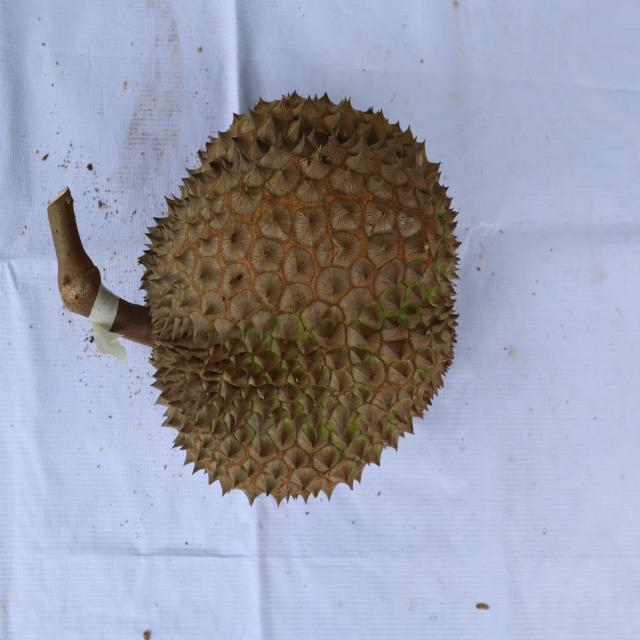mature: (136, 86, 465, 509)
